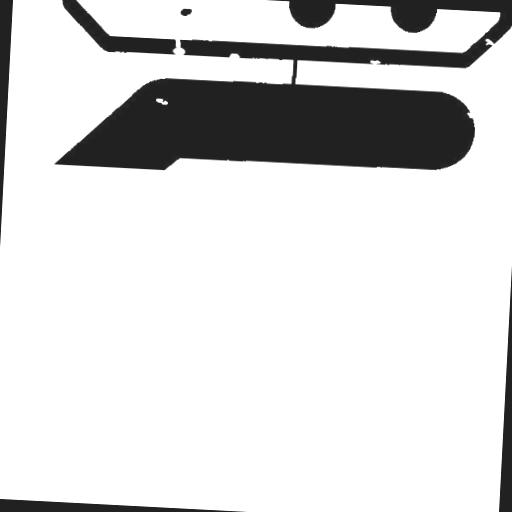copper: (172, 0, 200, 24)
mousebite: (476, 30, 502, 54), (221, 45, 248, 66), (362, 52, 389, 73), (458, 104, 482, 126)
open: (164, 26, 194, 62)
pin-hole: (148, 90, 176, 112)
short: (283, 43, 306, 93)
